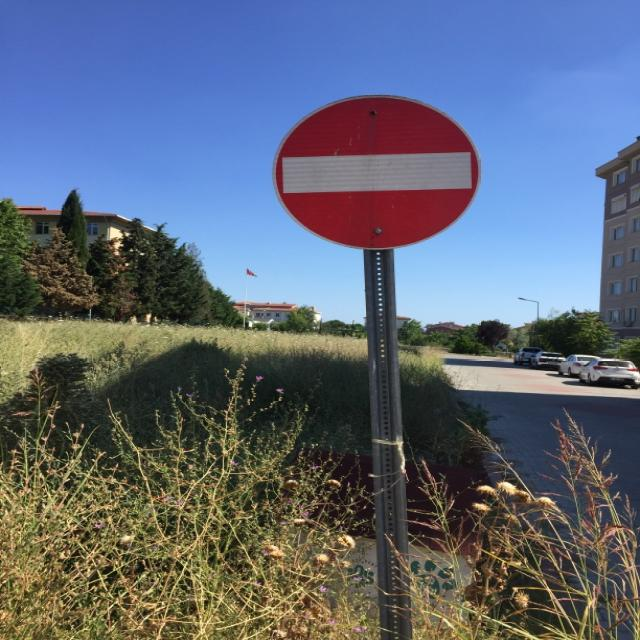girisyok: (273, 96, 481, 250)
